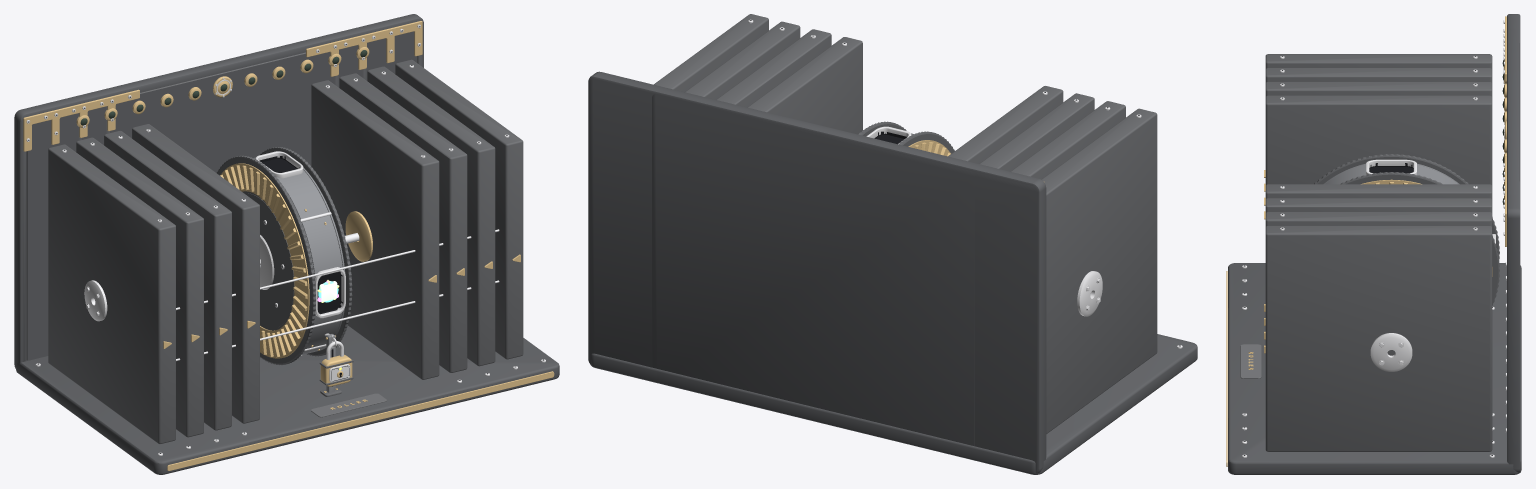
File: roller_assets.glb
The picture shows the model from 3 angles, left to right: view 1: azimuth 30°, elevation 25°; view 2: azimuth 150°, elevation 25°; view 3: azimuth 270°, elevation 25°; orthographic projection. The views are drawn at different scales.
Parts seen in each view (by area): view 1: frame_6, frame_3, frame_4, frame_5, roller, padlock; view 2: frame_4, frame_6, frame_3, frame_5, roller; view 3: frame_6, frame_3, frame_5, frame_4, roller.
Boxes of the visible parts, bbox=[...] form: frame_6: bbox=[14, 14, 559, 474]; frame_3: bbox=[106, 36, 471, 450]; frame_4: bbox=[77, 28, 499, 459]; frame_5: bbox=[49, 21, 527, 467]; roller: bbox=[217, 147, 352, 364]; padlock: bbox=[319, 341, 353, 386]; frame_4: bbox=[652, 29, 1094, 457]; frame_6: bbox=[588, 14, 1197, 474]; frame_3: bbox=[688, 37, 1063, 450]; frame_5: bbox=[626, 21, 1125, 466]; roller: bbox=[858, 121, 954, 156]; frame_6: bbox=[1226, 14, 1521, 474]; frame_3: bbox=[1228, 56, 1521, 418]; frame_5: bbox=[1226, 28, 1521, 446]; frame_4: bbox=[1226, 42, 1520, 432]; roller: bbox=[1314, 154, 1499, 306].
Bounding box in the file's own units: 11.28 × 6.95 × 7.04.
